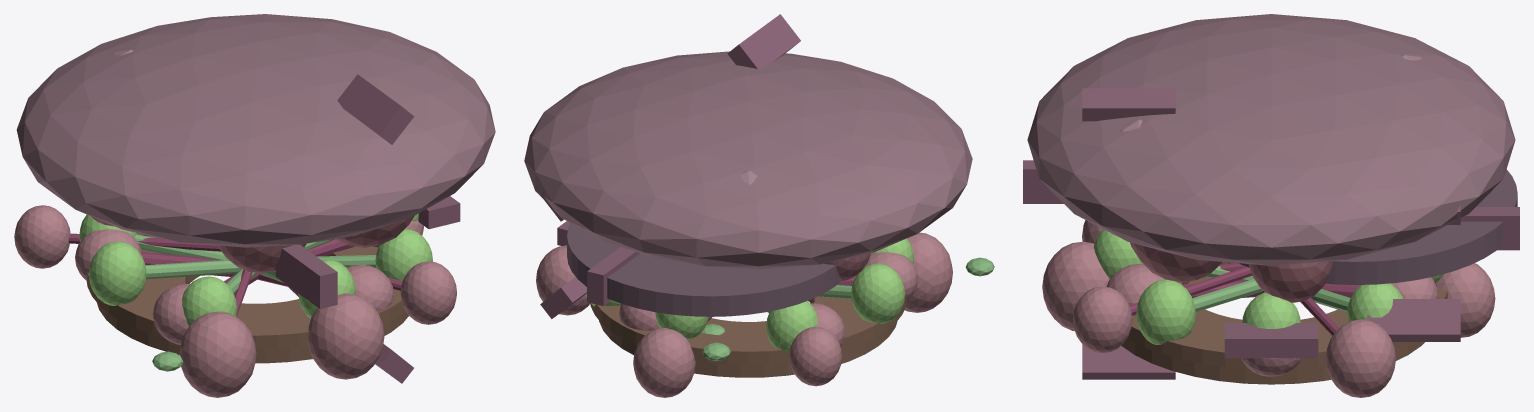
File: zglengo_evolution_pit.glb
3 renders of one model, left to right at view 1: azimuth 30°, elevation 25°; view 2: azimuth 150°, elevation 25°; view 3: azimuth 270°, elevation 25°, orthographic. The views are drawn at different scales.
Parts seen in each view (by area): view 1: base_mound, bubo_2, bubo_5, pit_lip, mutation_ring_1, mutagen_vat_4, bubo_3, bubo_0, lobe_2, lobe_1, mutagen_vat_1, mutagen_vat_3 (+16 smaller); view 2: base_mound, pit_rim, mutation_ring_1, pit_lip, bubo_4, bubo_2, mutagen_vat_4, bubo_0, lobe_1, bubo_1, mutagen_vat_5, lobe_6 (+9 smaller); view 3: base_mound, pit_rim, bubo_1, pit_lip, bubo_5, lobe_7, lobe_4, bubo_3, mutation_ring_1, mutagen_vat_1, lobe_1, bubo_4 (+15 smaller).
Part boxes in pixels (bbox=[...]): base_mound: bbox=[16, 14, 495, 247]; bubo_2: bbox=[179, 311, 256, 397]; bubo_5: bbox=[308, 293, 384, 379]; pit_lip: bbox=[97, 235, 408, 363]; mutation_ring_1: bbox=[86, 233, 405, 349]; mutagen_vat_4: bbox=[89, 241, 146, 305]; bubo_3: bbox=[400, 261, 456, 324]; bubo_0: bbox=[14, 205, 70, 268]; lobe_2: bbox=[275, 244, 337, 308]; lobe_1: bbox=[337, 74, 414, 144]; mutagen_vat_1: bbox=[375, 228, 432, 280]; mutagen_vat_3: bbox=[182, 276, 237, 326]; base_mound: bbox=[524, 51, 972, 269]; pit_rim: bbox=[567, 223, 842, 316]; mutation_ring_1: bbox=[590, 293, 907, 364]; pit_lip: bbox=[599, 297, 897, 377]; bubo_4: bbox=[633, 327, 695, 397]; bubo_2: bbox=[904, 232, 952, 312]; mutagen_vat_4: bbox=[851, 263, 904, 323]; bubo_0: bbox=[789, 326, 842, 386]; lobe_1: bbox=[727, 14, 800, 68]; bubo_1: bbox=[536, 245, 590, 315]; mutagen_vat_5: bbox=[766, 301, 817, 353]; lobe_6: bbox=[587, 247, 639, 305]; base_mound: bbox=[1027, 14, 1515, 265]; pit_rim: bbox=[1239, 169, 1517, 284]; bubo_1: bbox=[1325, 319, 1395, 397]; pit_lip: bbox=[1121, 262, 1424, 384]; bubo_5: bbox=[1042, 241, 1109, 331]; lobe_7: bbox=[1367, 299, 1460, 341]; lobe_4: bbox=[1224, 323, 1318, 358]; bubo_3: bbox=[1073, 286, 1132, 352]; mutation_ring_1: bbox=[1127, 287, 1447, 369]; mutagen_vat_1: bbox=[1136, 279, 1195, 344]; lobe_1: bbox=[1082, 88, 1175, 121]; bubo_4: bbox=[1435, 263, 1495, 337].
Bounding box in the file's own units: 2.4 × 1.52 × 2.34.
